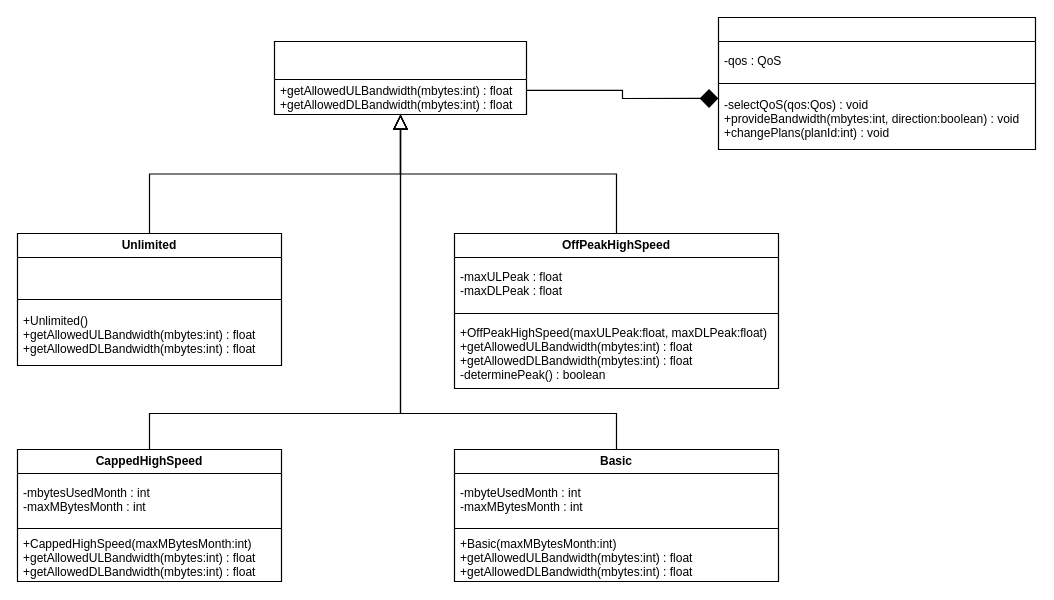
Image size: 1054x600. Some labels were removed from this diagram. The shapes that lost their labels are listed below. From the top down, each one's box as (x1, y1, x2, y2) in pixels, then its label:
(273, 40, 527, 115): <<interface>> QoS
(717, 16, 1036, 150): Subscriber
